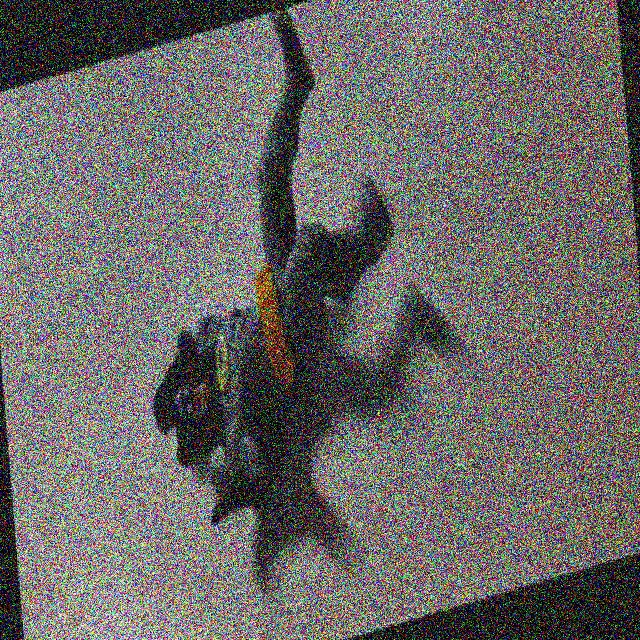Batman: (117, 0, 416, 586)
